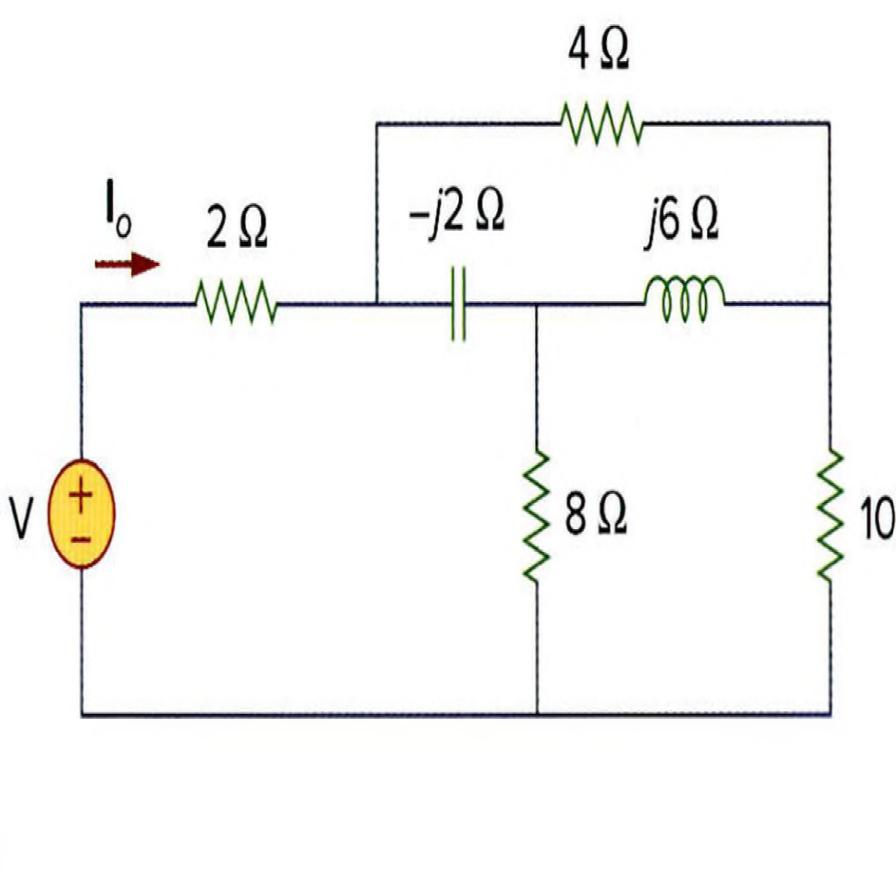C1: (439, 257, 480, 355)
L1: (636, 257, 733, 334)
